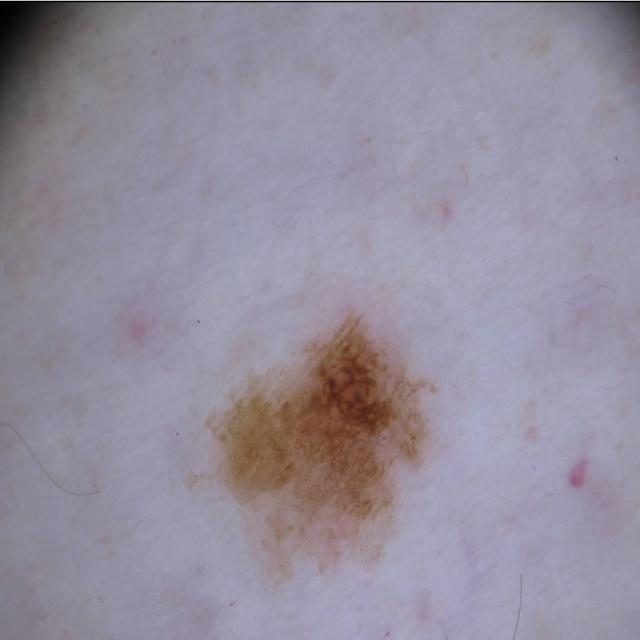Melanoma: (173, 265, 442, 578)
